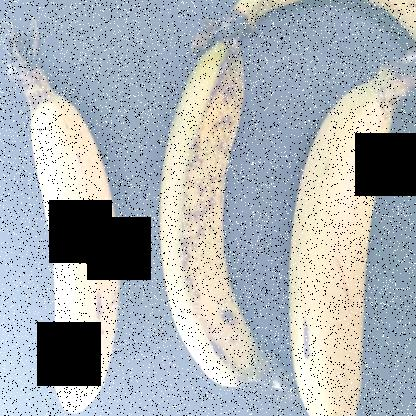freshripe: (19, 62, 136, 415), (301, 58, 404, 415)
ripe: (123, 17, 276, 387)
